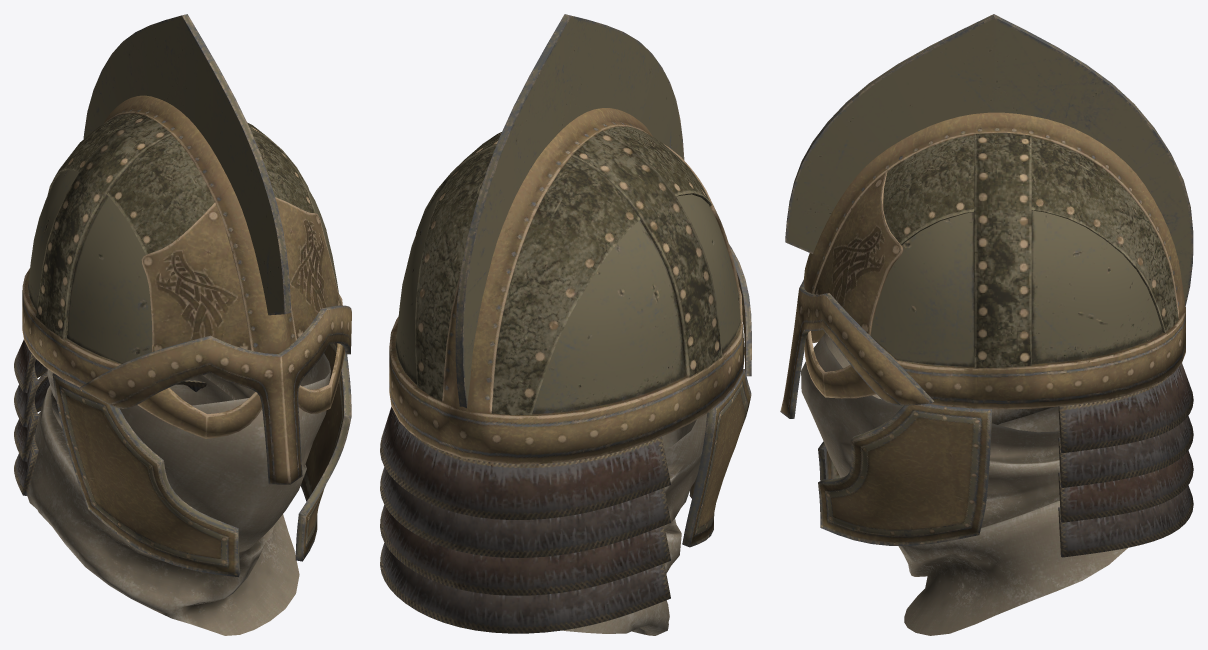
The model's file is dunland_wulf_helmet_lord_b.fbx.
3 views of the same model, side by side, from view 1: azimuth 30°, elevation 25°; view 2: azimuth 150°, elevation 25°; view 3: azimuth 270°, elevation 25° (orthographic). The views are drawn at different scales.
Visible parts, largest first — view 1: dunland_wulf_helmet_lord_b; view 2: dunland_wulf_helmet_lord_b; view 3: dunland_wulf_helmet_lord_b.
Boxes of the visible parts, x1,y1,x2,y2 form: dunland_wulf_helmet_lord_b: (14,14,351,635); dunland_wulf_helmet_lord_b: (380,14,751,635); dunland_wulf_helmet_lord_b: (780,14,1193,635).
Size of the model in its own units: 0.2073 by 0.2697 by 0.4291.
Materials: 1 (1 with a texture image).
